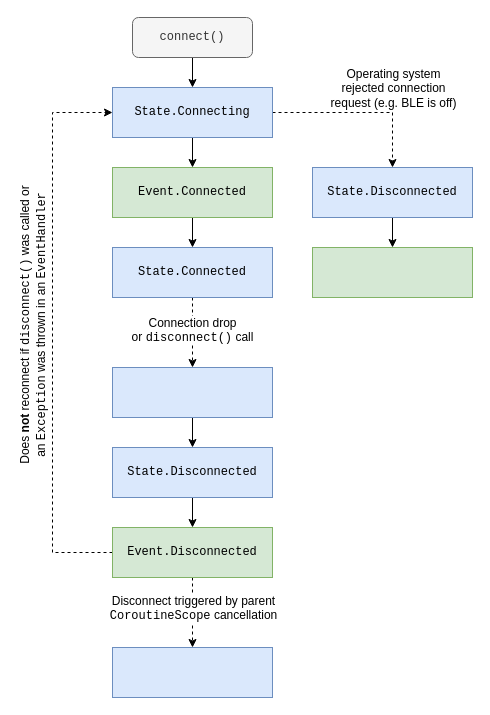
Some shapes in this 490 by 715 pixel diagram are drawn without their labels. The box of each missing label's shape, as (x1, y1, x2, y2) in pixels:
Event.Rejected: (312, 246, 472, 298)
State.Cancelled: (112, 646, 272, 698)
State.Disconnecting: (112, 366, 272, 418)
